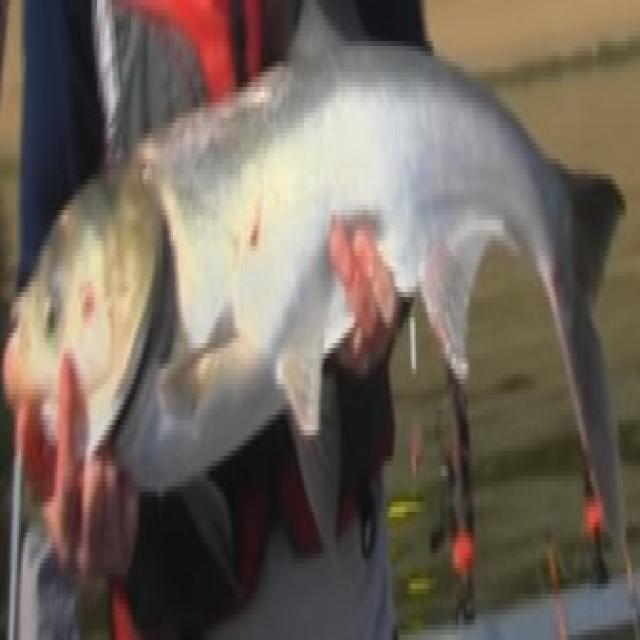Big-Head-Carp: (0, 9, 636, 583)
